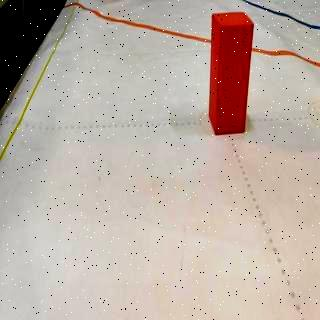redbox: (210, 10, 254, 135)
